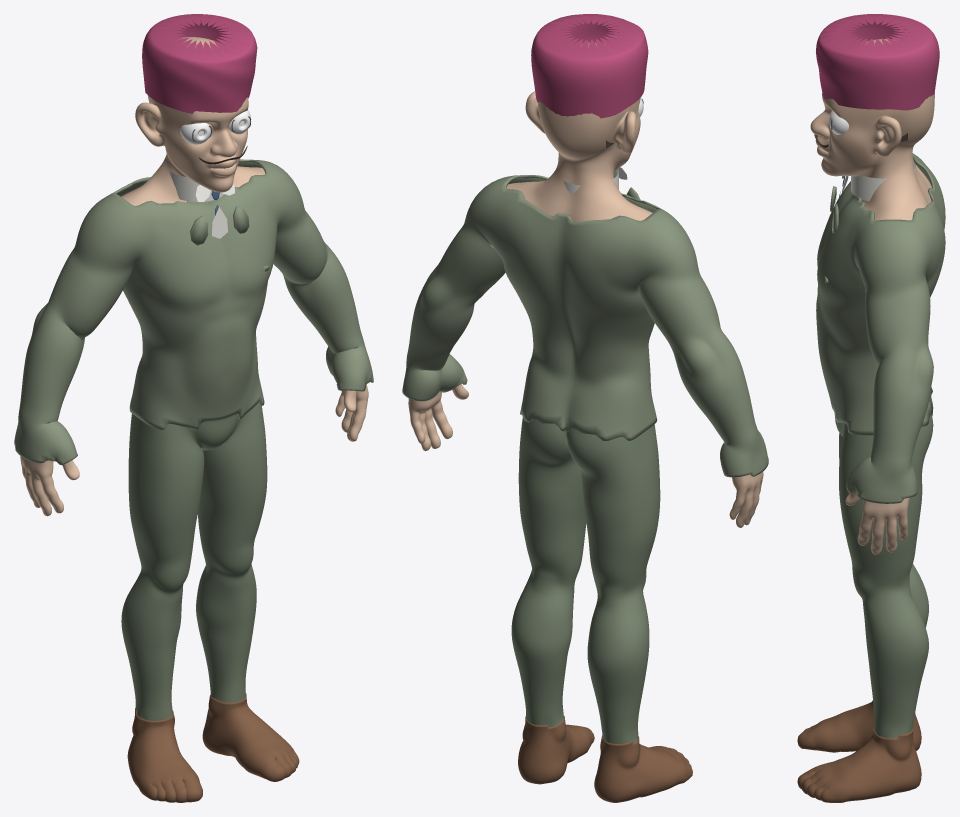
Rendered from professor_torque_base_mesh_experiment.glb.
The picture shows the model from 3 angles, left to right: view 1: azimuth 30°, elevation 25°; view 2: azimuth 150°, elevation 25°; view 3: azimuth 270°, elevation 25°; orthographic projection.
Parts seen in each view (by area): view 1: Suit_OliveBlazer, Trousers_OliveTailored, GEO-body_male_stylized, Turban_Patiala_Shahi, Shoes_CognacOxford, Shirt_DressCream; view 2: Suit_OliveBlazer, Trousers_OliveTailored, GEO-body_male_stylized, Turban_Patiala_Shahi, Shoes_CognacOxford; view 3: Suit_OliveBlazer, Trousers_OliveTailored, GEO-body_male_stylized, Turban_Patiala_Shahi, Shoes_CognacOxford, Shirt_DressCream, GEO-body_male_stylized.eye.L.
Boxes of the visible parts, <box> form: Suit_OliveBlazer: <box>14,159,373,464</box>; Trousers_OliveTailored: <box>121,402,267,720</box>; GEO-body_male_stylized: <box>20,37,368,516</box>; Turban_Patiala_Shahi: <box>142,14,257,113</box>; Shoes_CognacOxford: <box>127,693,299,802</box>; Shirt_DressCream: <box>168,169,234,238</box>; Suit_OliveBlazer: <box>402,175,768,477</box>; Trousers_OliveTailored: <box>511,417,660,743</box>; GEO-body_male_stylized: <box>408,42,763,527</box>; Turban_Patiala_Shahi: <box>531,14,648,118</box>; Shoes_CognacOxford: <box>518,716,692,802</box>; Suit_OliveBlazer: <box>816,153,945,503</box>; Trousers_OliveTailored: <box>834,398,933,738</box>; GEO-body_male_stylized: <box>810,39,934,554</box>; Turban_Patiala_Shahi: <box>816,14,939,110</box>; Shoes_CognacOxford: <box>797,700,921,802</box>; Shirt_DressCream: <box>835,162,915,203</box>; GEO-body_male_stylized.eye.L: <box>829,110,848,134</box>.
Bounding box in the file's own units: 0.9048 × 1.83 × 0.3333.
